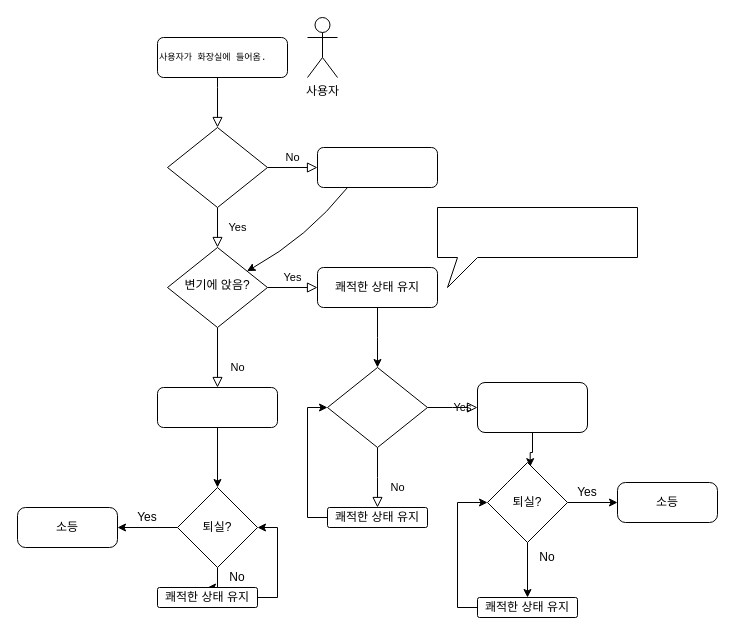
The diagram is 735 pixels wide and 635 high, and some of its shapes have lost their labels. Each missing label, with the centre of its shape:
"'쾌적한 상태' 란 [스마트 환풍기]를 작동시키는 상황을 뜻함." belongs at point (537, 247).
"불이 켜져있나?" belongs at point (217, 167).
"용변 처리" belongs at point (532, 407).
"일어남?" belongs at point (377, 407).
"점등" belongs at point (377, 167).
"환풍기를 작동시킴" belongs at point (217, 407).
